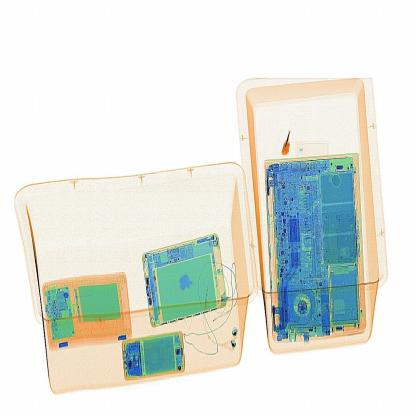wrench: (272, 124, 300, 160)
